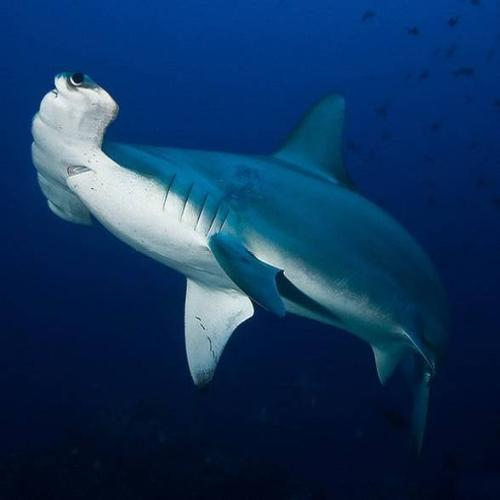shark-endangered: (28, 67, 456, 458)
